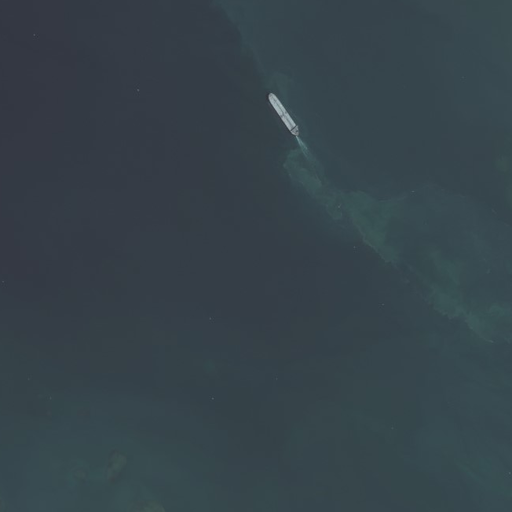ship: (265, 90, 302, 140)
